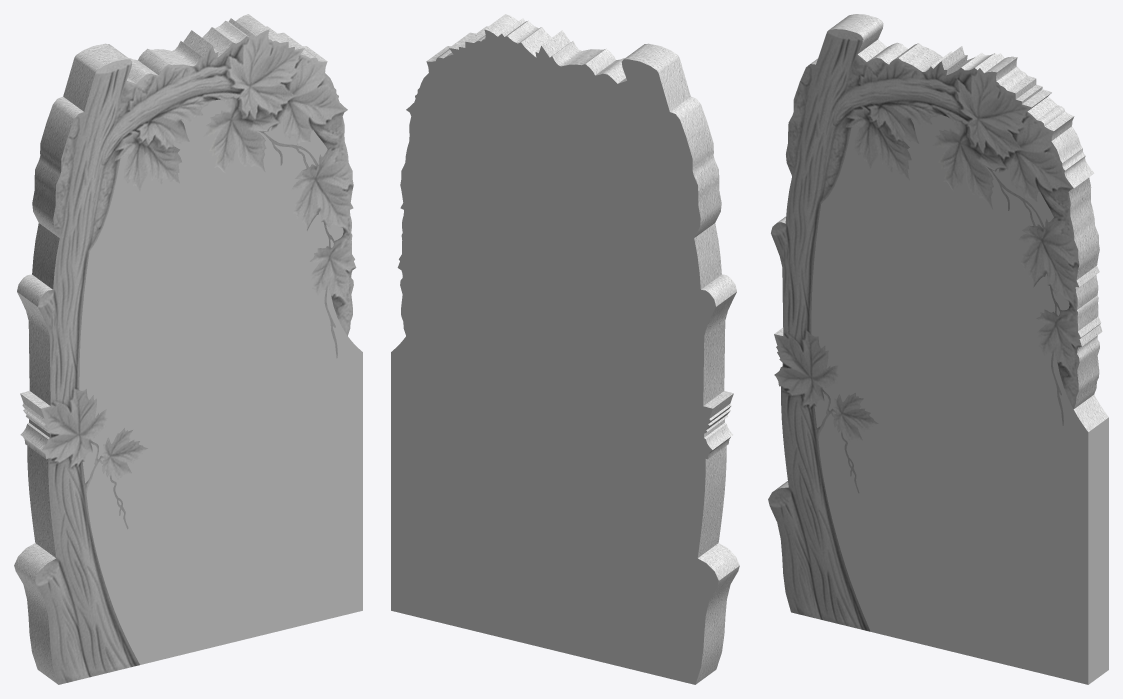
File: cnda52ac1f53_tkf.glb
The picture shows the model from 3 angles, left to right: view 1: azimuth 30°, elevation 25°; view 2: azimuth 150°, elevation 25°; view 3: azimuth 330°, elevation 25°; orthographic projection. The views are drawn at different scales.
Parts seen in each view (by area): view 1: Pam-d03-071, Pam-d03-071_2_notexture; view 2: Pam-d03-071, Pam-d03-071_2_notexture; view 3: Pam-d03-071, Pam-d03-071_2_notexture.
Part boxes in pixels (box(x1,y1,x2,y2)): Pam-d03-071: box(79, 99, 362, 664); Pam-d03-071_2_notexture: box(14, 14, 356, 684); Pam-d03-071: box(391, 29, 718, 684); Pam-d03-071_2_notexture: box(427, 14, 739, 684); Pam-d03-071: box(811, 115, 1108, 684); Pam-d03-071_2_notexture: box(768, 14, 1108, 631).
Size of the model in its own units: 0.45 by 0.8 by 0.05.
Materials: 1 (1 with a texture image).
